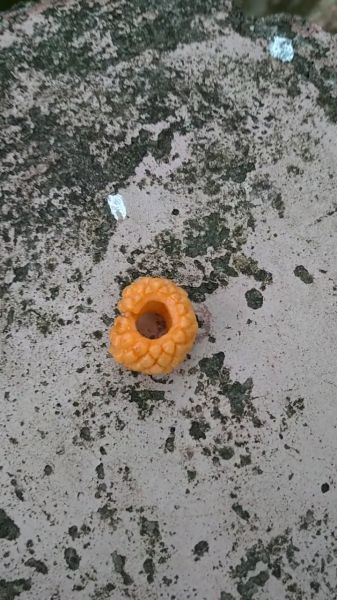eggs: (102, 271, 202, 375)
